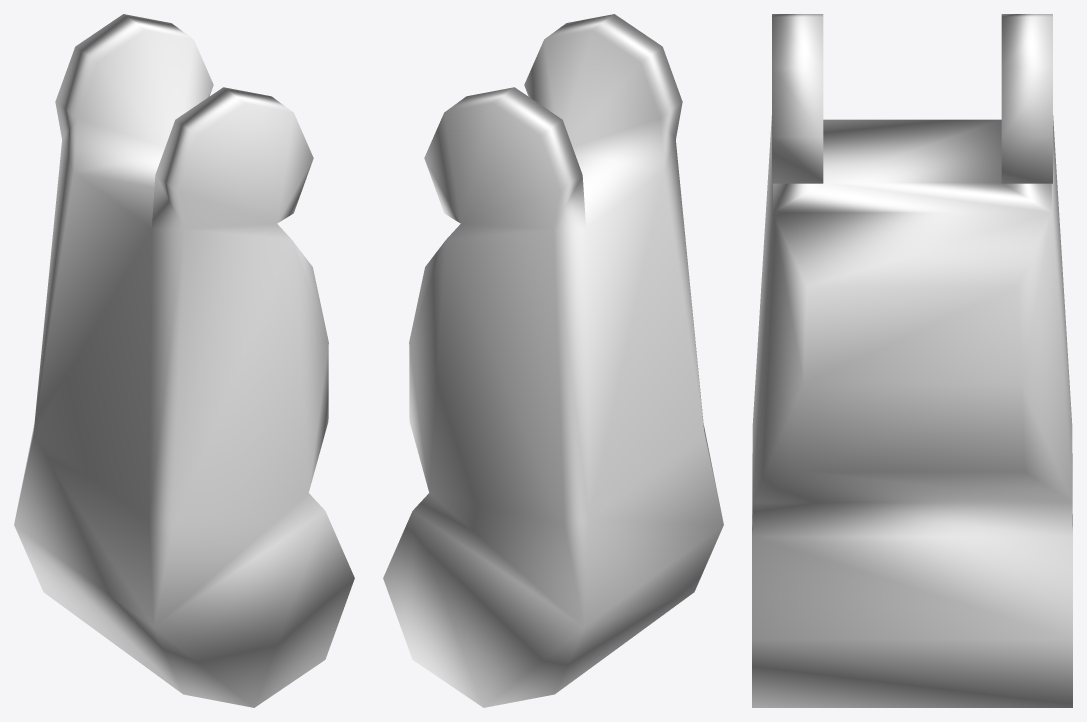
File: indexj1_left.obj
3 renders of one model, left to right at view 1: azimuth 30°, elevation 25°; view 2: azimuth 150°, elevation 25°; view 3: azimuth 270°, elevation 25°, orthographic. The views are drawn at different scales.
Bounding box in the file's own units: 0.019 × 0.0541 × 0.0229.
1 material, 1 textured.
